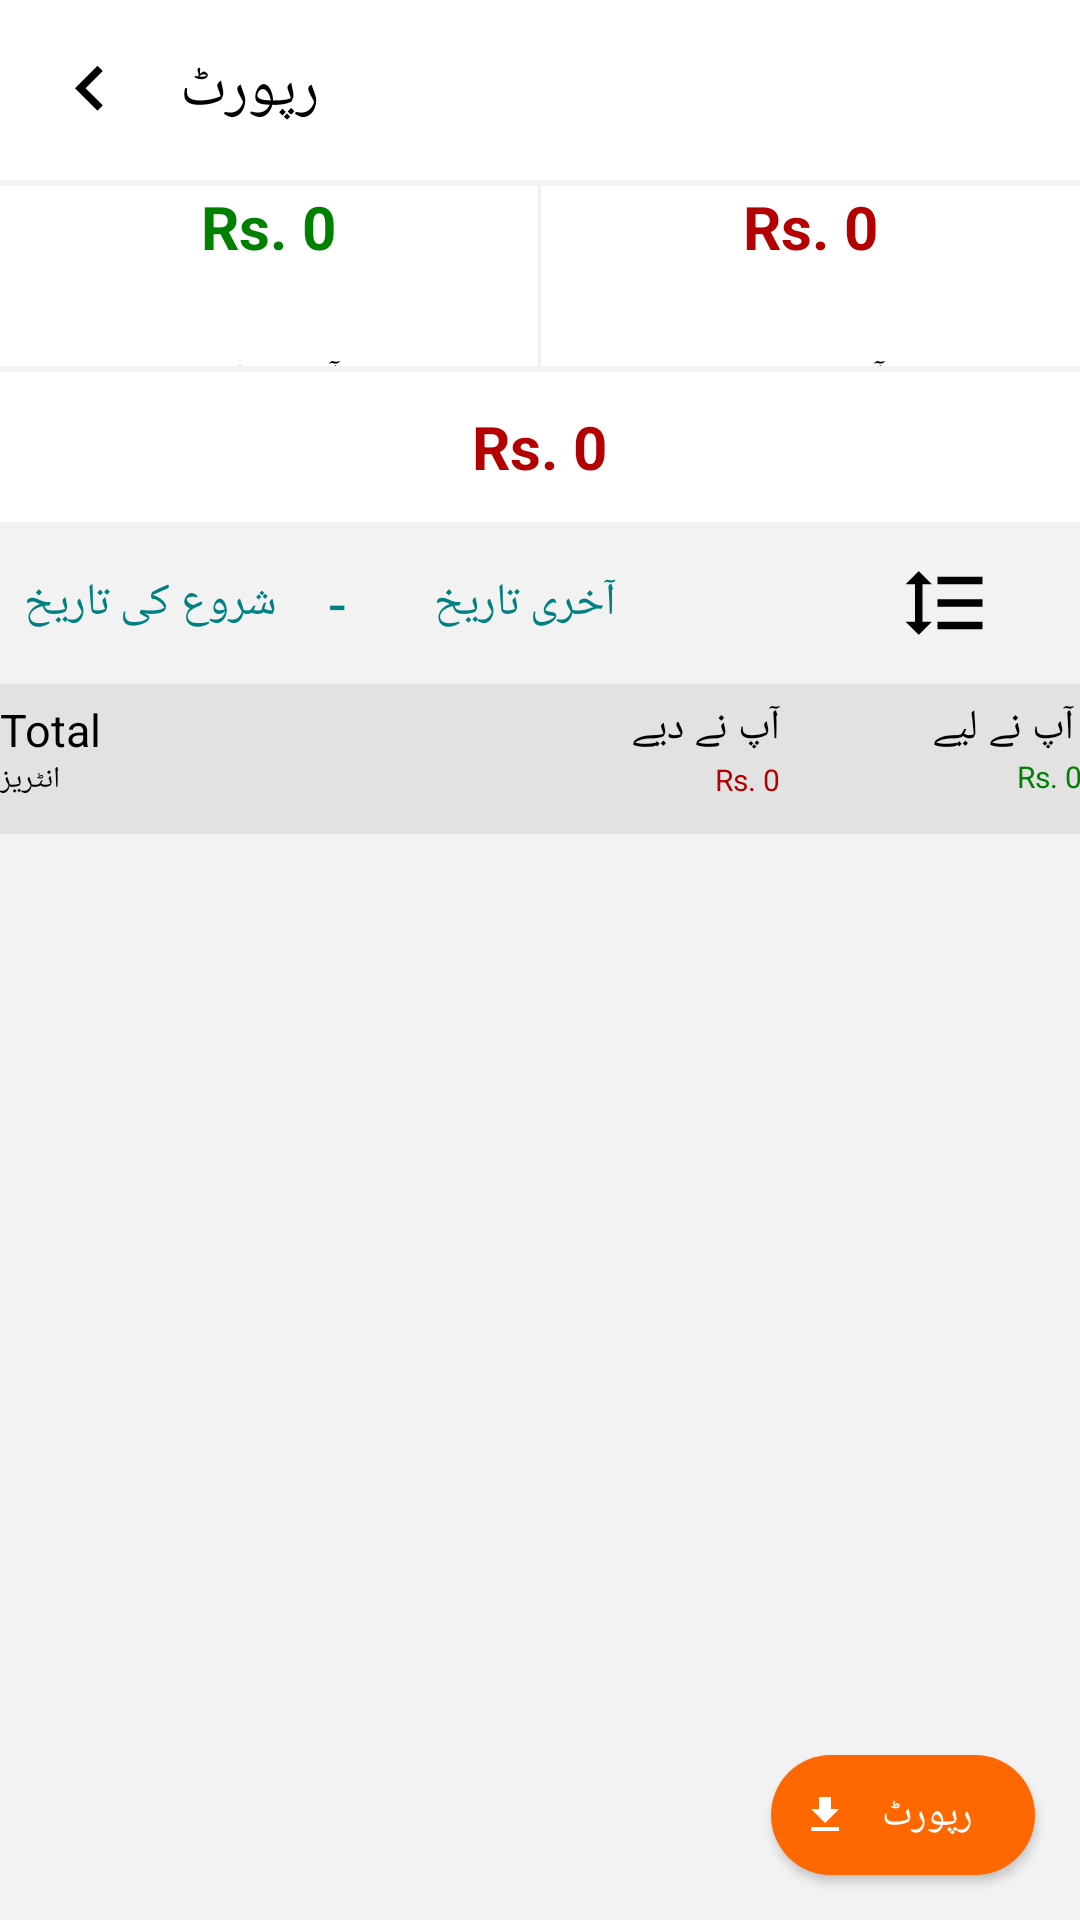

Icon bounding boxes for this 1080x1920 phone screenshot, format (x1, y1, x2, y2):
arrow back: (75, 66, 103, 111)
format line spacing: (906, 571, 983, 635)
